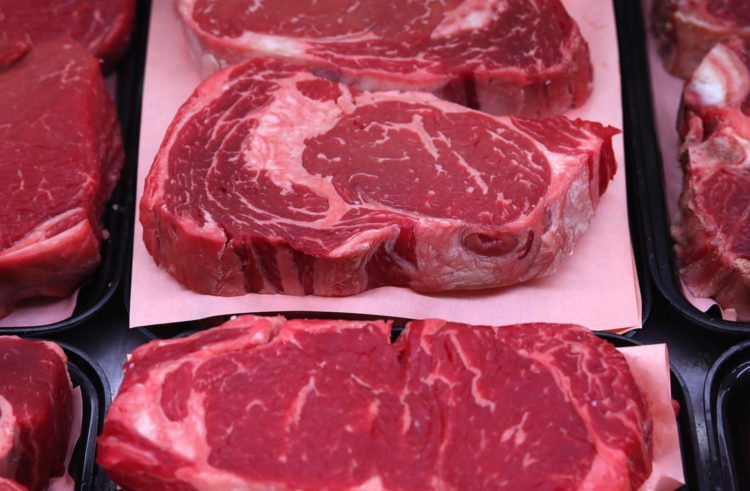ground_beef: (155, 72, 516, 246), (187, 330, 555, 472)
